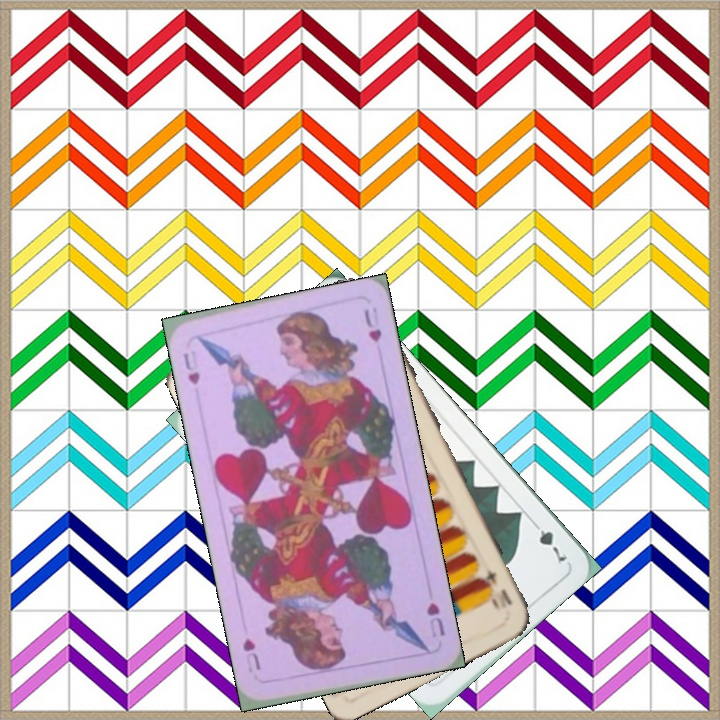E10: (479, 566, 515, 608)
G7: (527, 516, 570, 567)
HU: (422, 599, 448, 639), (179, 346, 202, 387)
